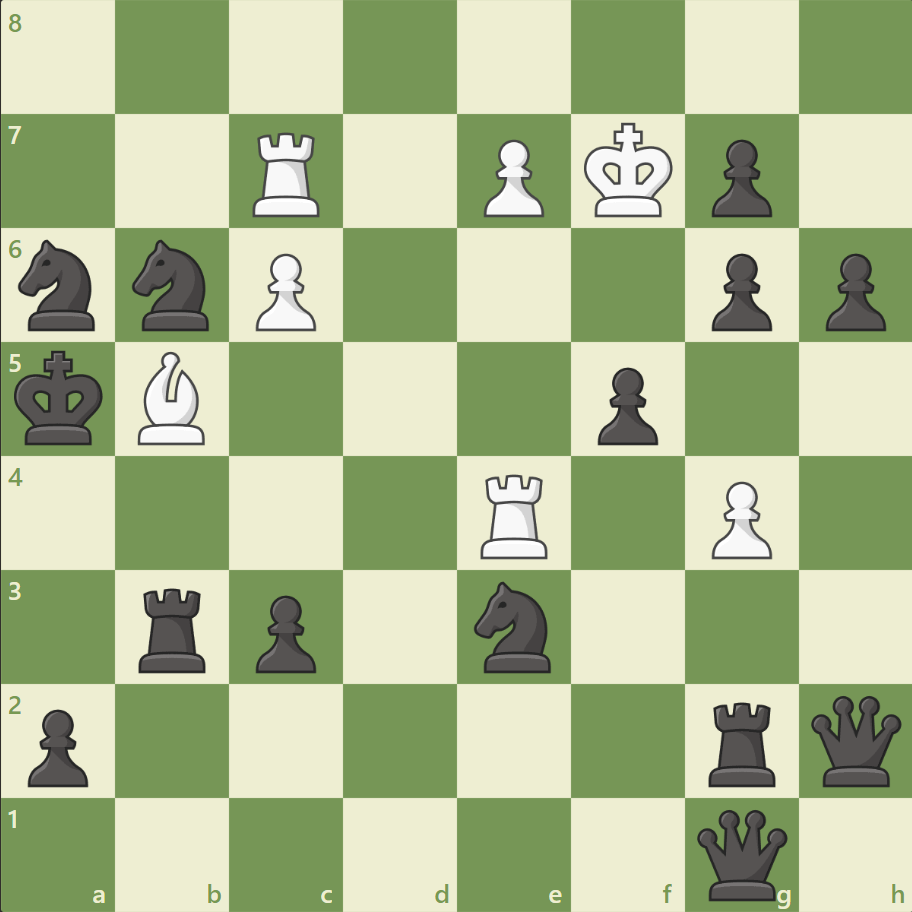B: (131, 347, 215, 449)
K: (579, 117, 679, 225)
P: (474, 132, 549, 223), (247, 246, 322, 337), (701, 473, 776, 564)
R: (246, 125, 329, 222), (473, 466, 556, 563)
k: (11, 344, 111, 452)
n: (124, 234, 222, 337), (11, 234, 108, 337), (465, 575, 562, 677)
p: (701, 132, 776, 223), (701, 246, 776, 337), (247, 586, 322, 677), (20, 700, 95, 791), (815, 246, 889, 337), (588, 359, 662, 450)
q: (805, 690, 904, 789), (691, 804, 790, 903)
r: (700, 693, 783, 790), (133, 579, 215, 676)
